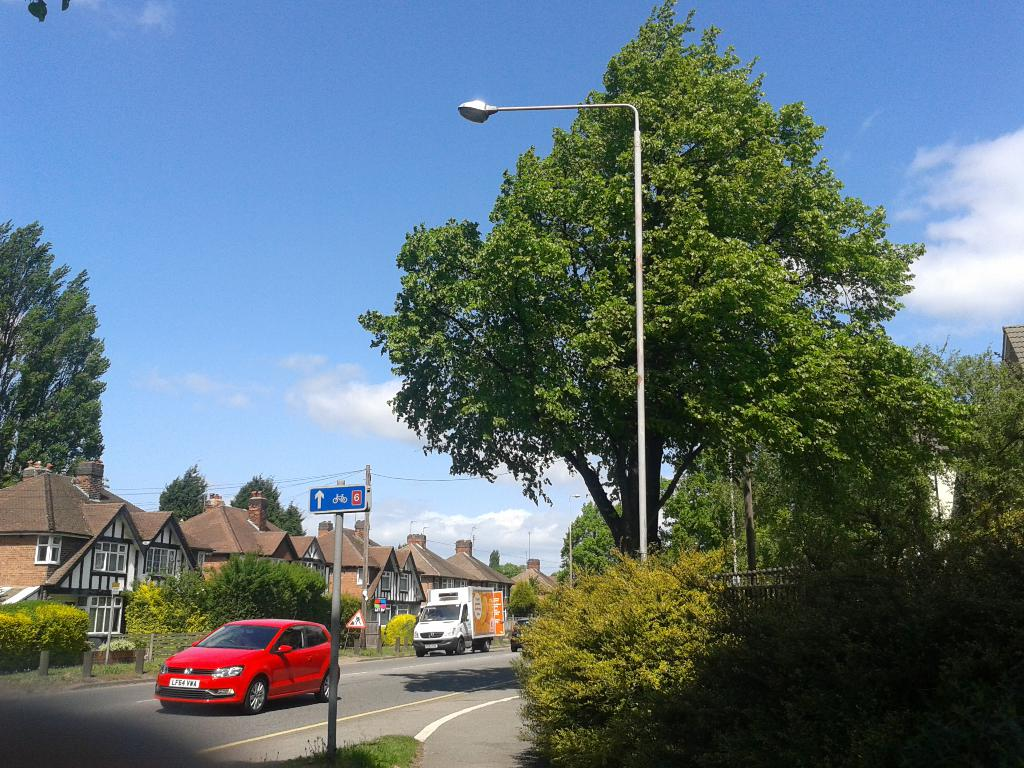Car: (158, 620, 339, 714)
